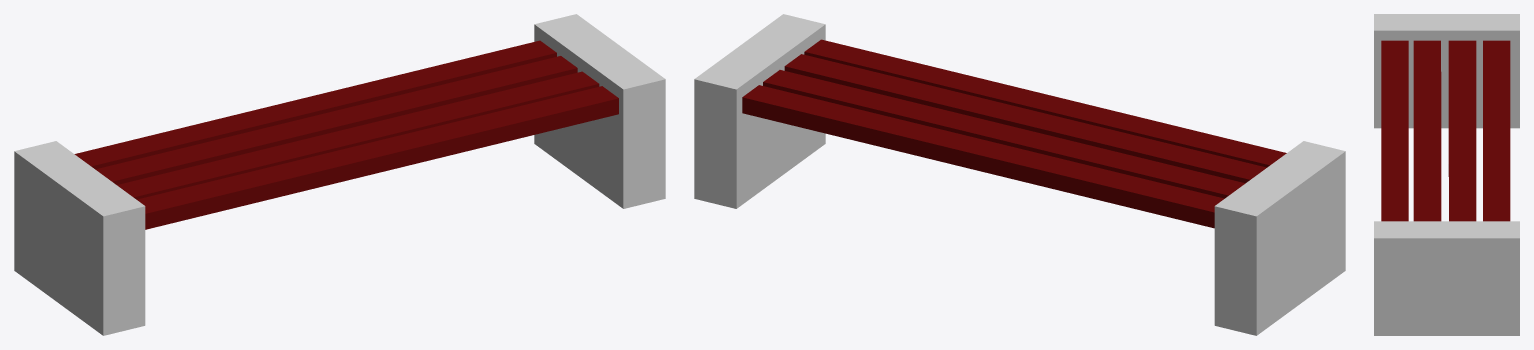
File: Parkbench-01.fbx
3 renders of one model, left to right at view 1: azimuth 30°, elevation 25°; view 2: azimuth 150°, elevation 25°; view 3: azimuth 270°, elevation 25°, orthographic. The views are drawn at different scales.
Parts seen in each view (by area): view 1: Parkbench-01; view 2: Parkbench-01; view 3: Parkbench-01.
Boxes of the visible parts, x1,y1,x2,y2 form: Parkbench-01: (14,14,665,335); Parkbench-01: (694,14,1345,335); Parkbench-01: (1374,14,1519,335).
Size of what is drawn, in the model's own units: 2.5 by 0.5085 by 0.6876.
